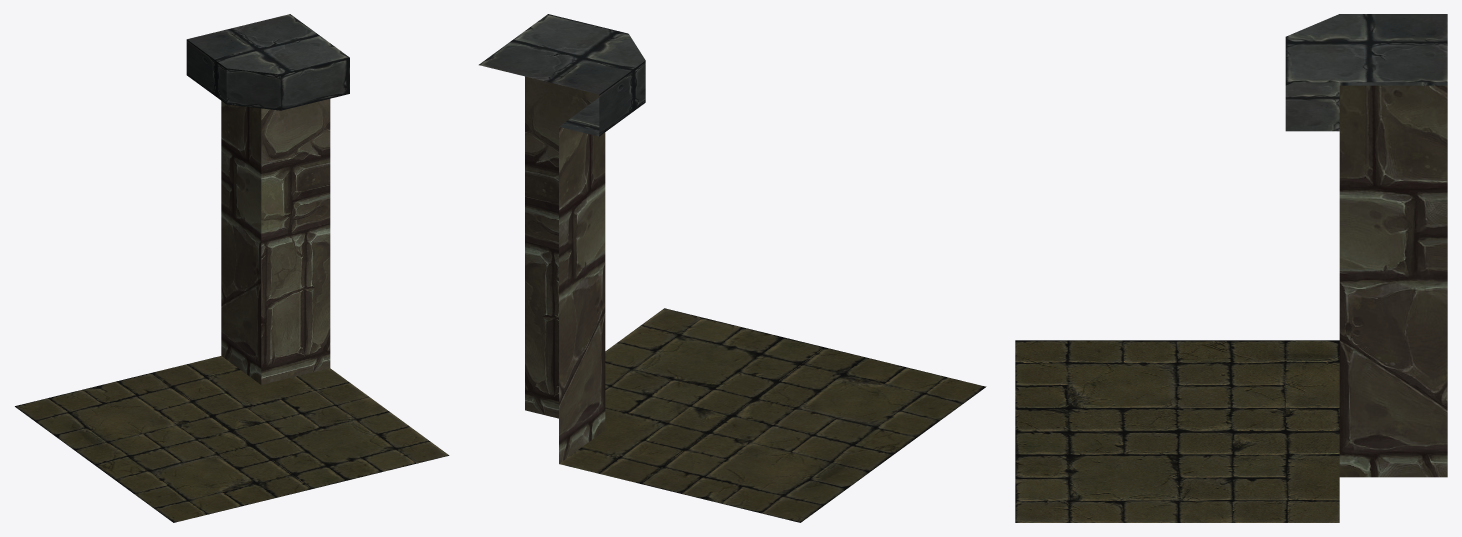
File: lone_pillar_001.FBX
3 renders of one model, left to right at view 1: azimuth 30°, elevation 25°; view 2: azimuth 150°, elevation 25°; view 3: azimuth 270°, elevation 25°, orthographic. The views are drawn at different scales.
Parts seen in each view (by area): view 1: pole001; view 2: pole001; view 3: pole001.
Part boxes in pixels (x1=…): pole001: x1=15, y1=14, x2=449, y2=522; pole001: x1=479, y1=14, x2=986, y2=522; pole001: x1=1015, y1=14, x2=1447, y2=522.
Size of the model in its own units: 40 by 45 by 40.
Materials: 1 (1 with a texture image).
